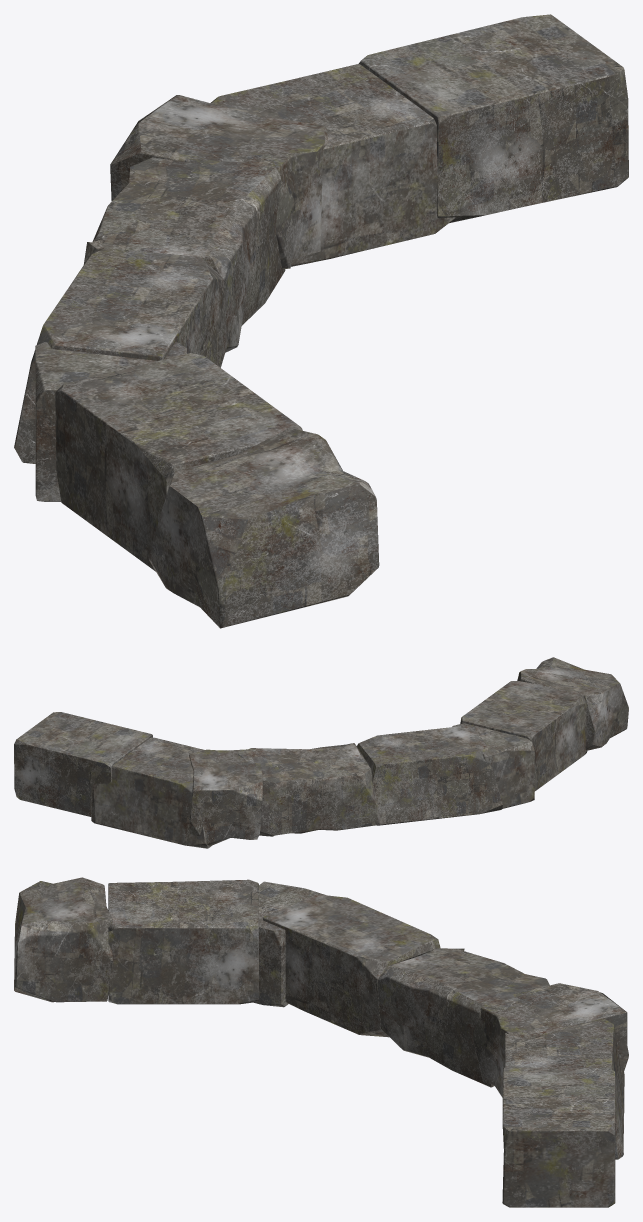
The model's file is SM_CastleTower_Floor_Seam_B_02.fbx.
3 renders of one model, top to bottom at view 1: azimuth 30°, elevation 25°; view 2: azimuth 150°, elevation 25°; view 3: azimuth 270°, elevation 25°, orthographic. The views are drawn at different scales.
Visible parts, largest first — view 1: SM_CastleTower_Floor_Seam_B_02_LOD0; view 2: SM_CastleTower_Floor_Seam_B_02_LOD0; view 3: SM_CastleTower_Floor_Seam_B_02_LOD0.
Part boxes in pixels (<box>): SM_CastleTower_Floor_Seam_B_02_LOD0: <box>14,14,628,628</box>; SM_CastleTower_Floor_Seam_B_02_LOD0: <box>14,657,628,848</box>; SM_CastleTower_Floor_Seam_B_02_LOD0: <box>14,877,628,1207</box>.
Size of the model in its own units: 433 by 440 by 66.79.
